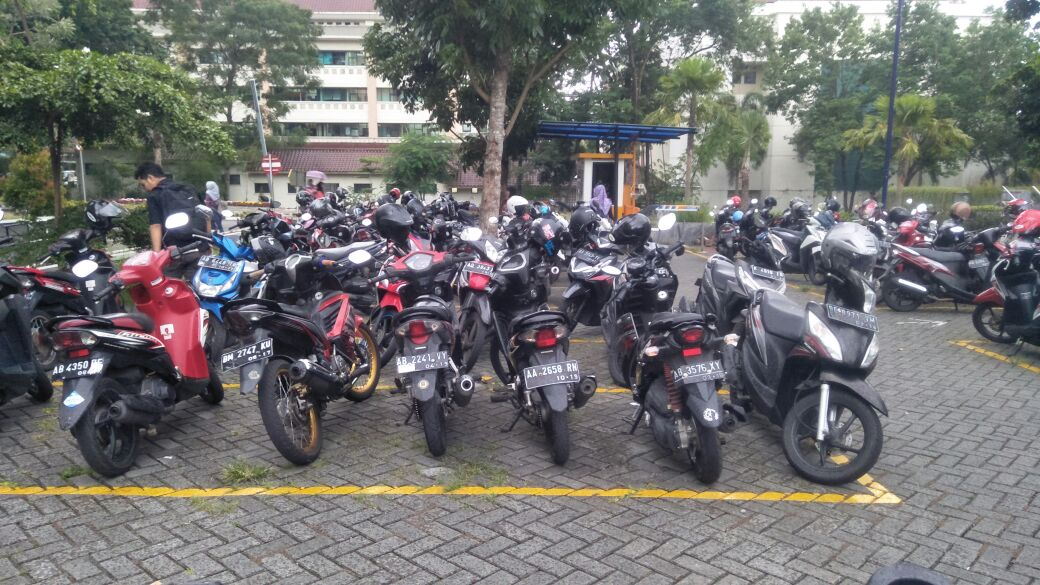plate: (220, 337, 274, 375), (522, 361, 582, 392), (672, 360, 726, 388), (49, 356, 106, 381), (826, 306, 880, 331), (396, 350, 449, 372), (199, 257, 238, 268)
